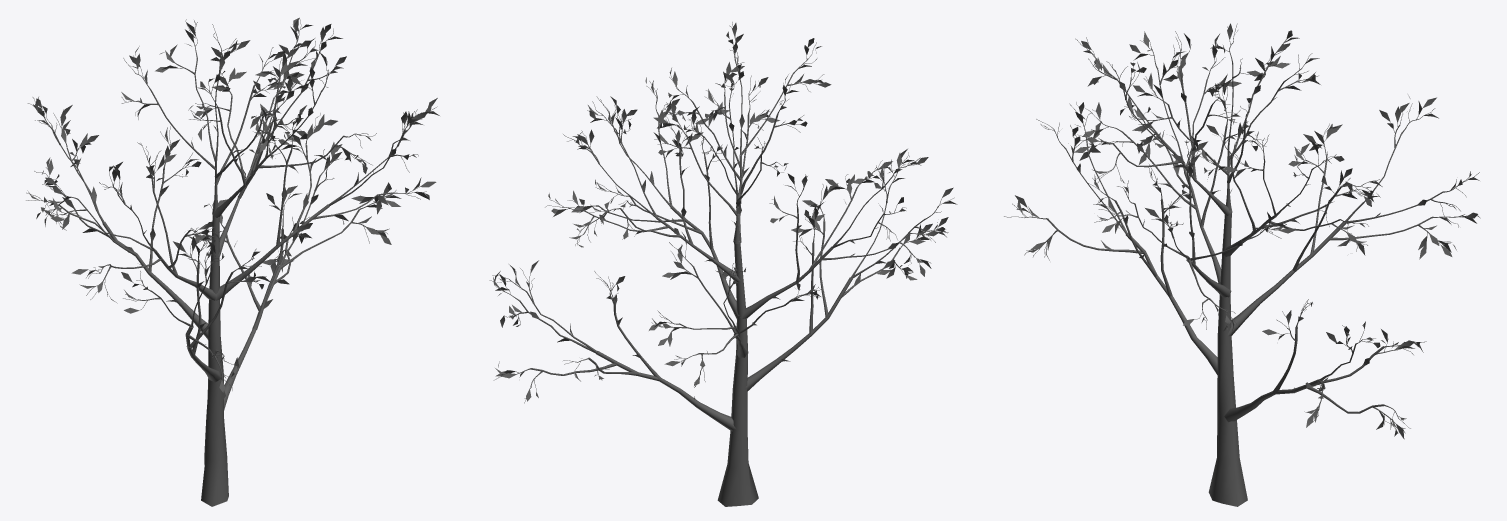
The picture shows the model from 3 angles, left to right: view 1: azimuth 30°, elevation 25°; view 2: azimuth 150°, elevation 25°; view 3: azimuth 270°, elevation 25°; orthographic projection. The views are drawn at different scales.
Parts seen in each view (by area): view 1: Forester_Tree; view 2: Forester_Tree; view 3: Forester_Tree.
Part boxes in pixels (left/top/right/bottom): Forester_Tree: left=26, top=17, right=439, bottom=506; Forester_Tree: left=489, top=22, right=957, bottom=506; Forester_Tree: left=1004, top=23, right=1480, bottom=506.
Bounding box in the file's own units: 950 × 1017 × 956.
Materials: 2 (2 with a texture image).
